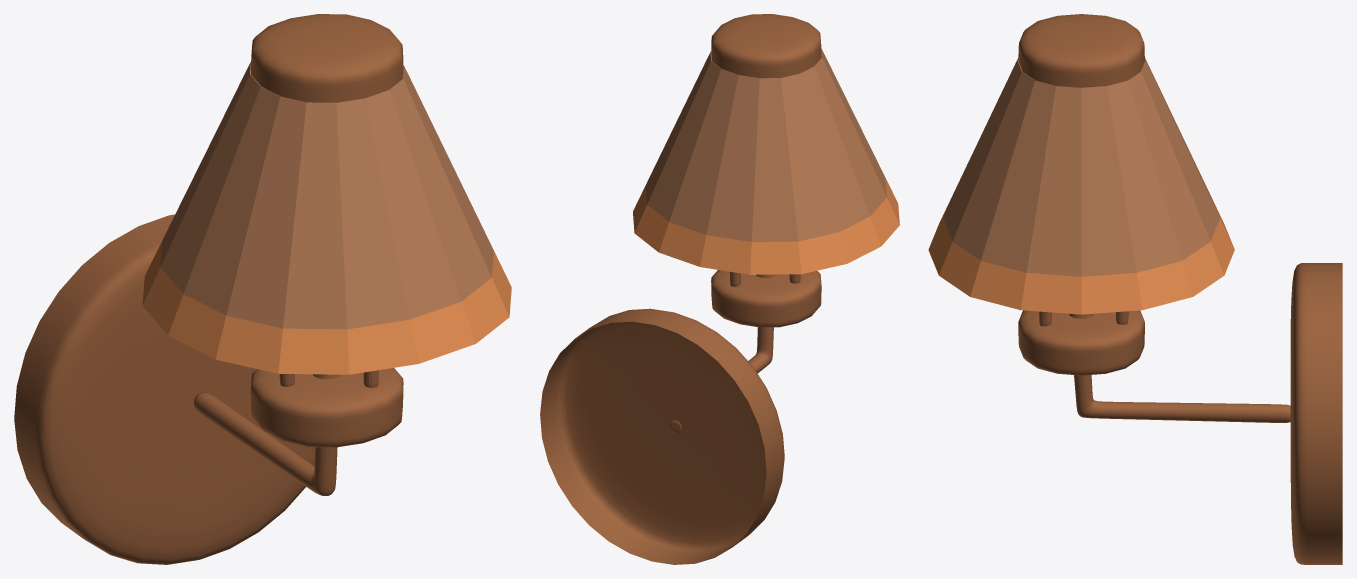
Rendered from Lamp.fbx.
The picture shows the model from 3 angles, left to right: view 1: azimuth 30°, elevation 25°; view 2: azimuth 150°, elevation 25°; view 3: azimuth 270°, elevation 25°; orthographic projection. The views are drawn at different scales.
Parts seen in each view (by area): view 1: Lamp; view 2: Lamp; view 3: Lamp.
Part boxes in pixels (<box>): Lamp: <box>14,14,511,564</box>; Lamp: <box>540,14,899,564</box>; Lamp: <box>928,14,1342,564</box>.
Bounding box in the file's own units: 29.32 × 54.6 × 39.62.
